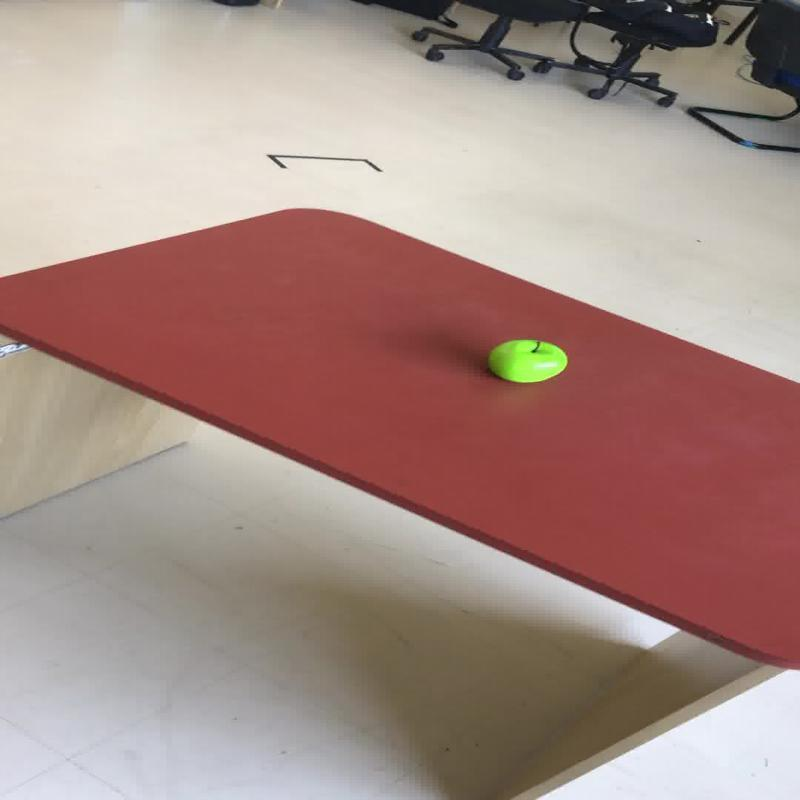apple: (485, 338, 568, 382)
